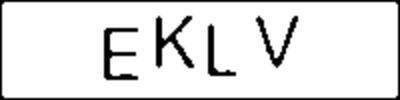E: (99, 24, 144, 85)
K: (152, 13, 197, 72)
L: (207, 20, 241, 80)
V: (250, 14, 304, 71)
